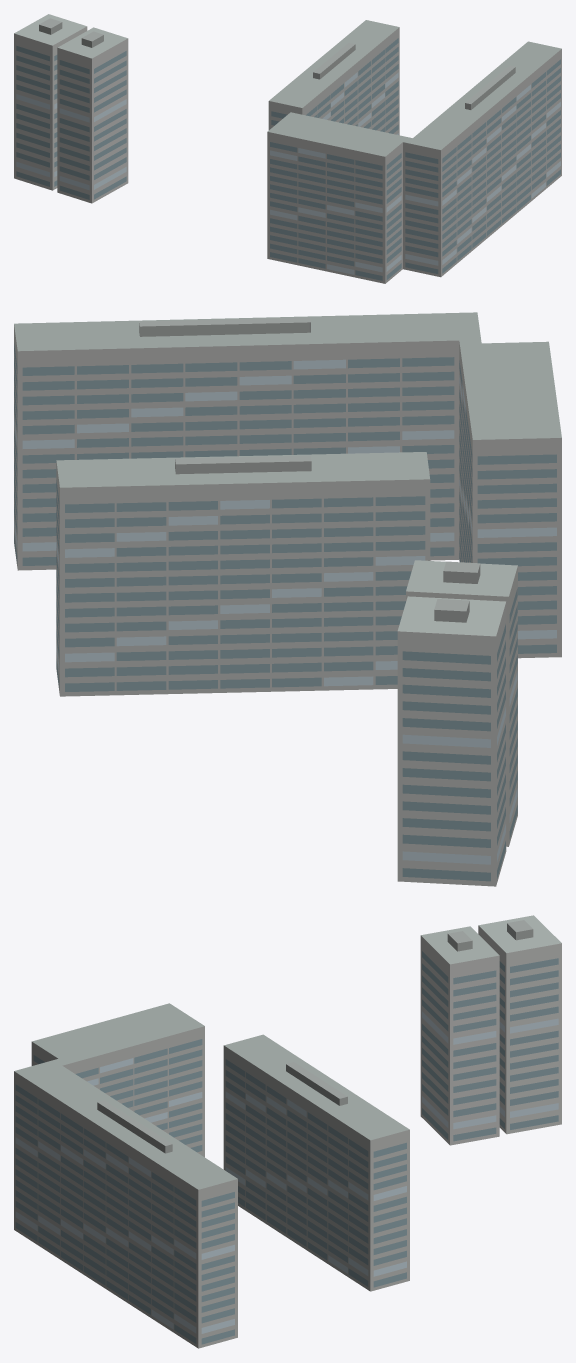
File: apt-a13880603.glb
The picture shows the model from 3 angles, top to bottom: view 1: azimuth 30°, elevation 25°; view 2: azimuth 150°, elevation 25°; view 3: azimuth 270°, elevation 25°; orthographic projection. The views are drawn at different scales.
Visible parts, largest first — view 1: apt-a13880603; view 2: apt-a13880603; view 3: apt-a13880603.
Part boxes in pixels (x1,y1,x2,y2): apt-a13880603: (14,14,561,283); apt-a13880603: (14,312,561,886); apt-a13880603: (14,915,561,1348).
Size of the model in its own units: 137 by 47.81 by 125.
